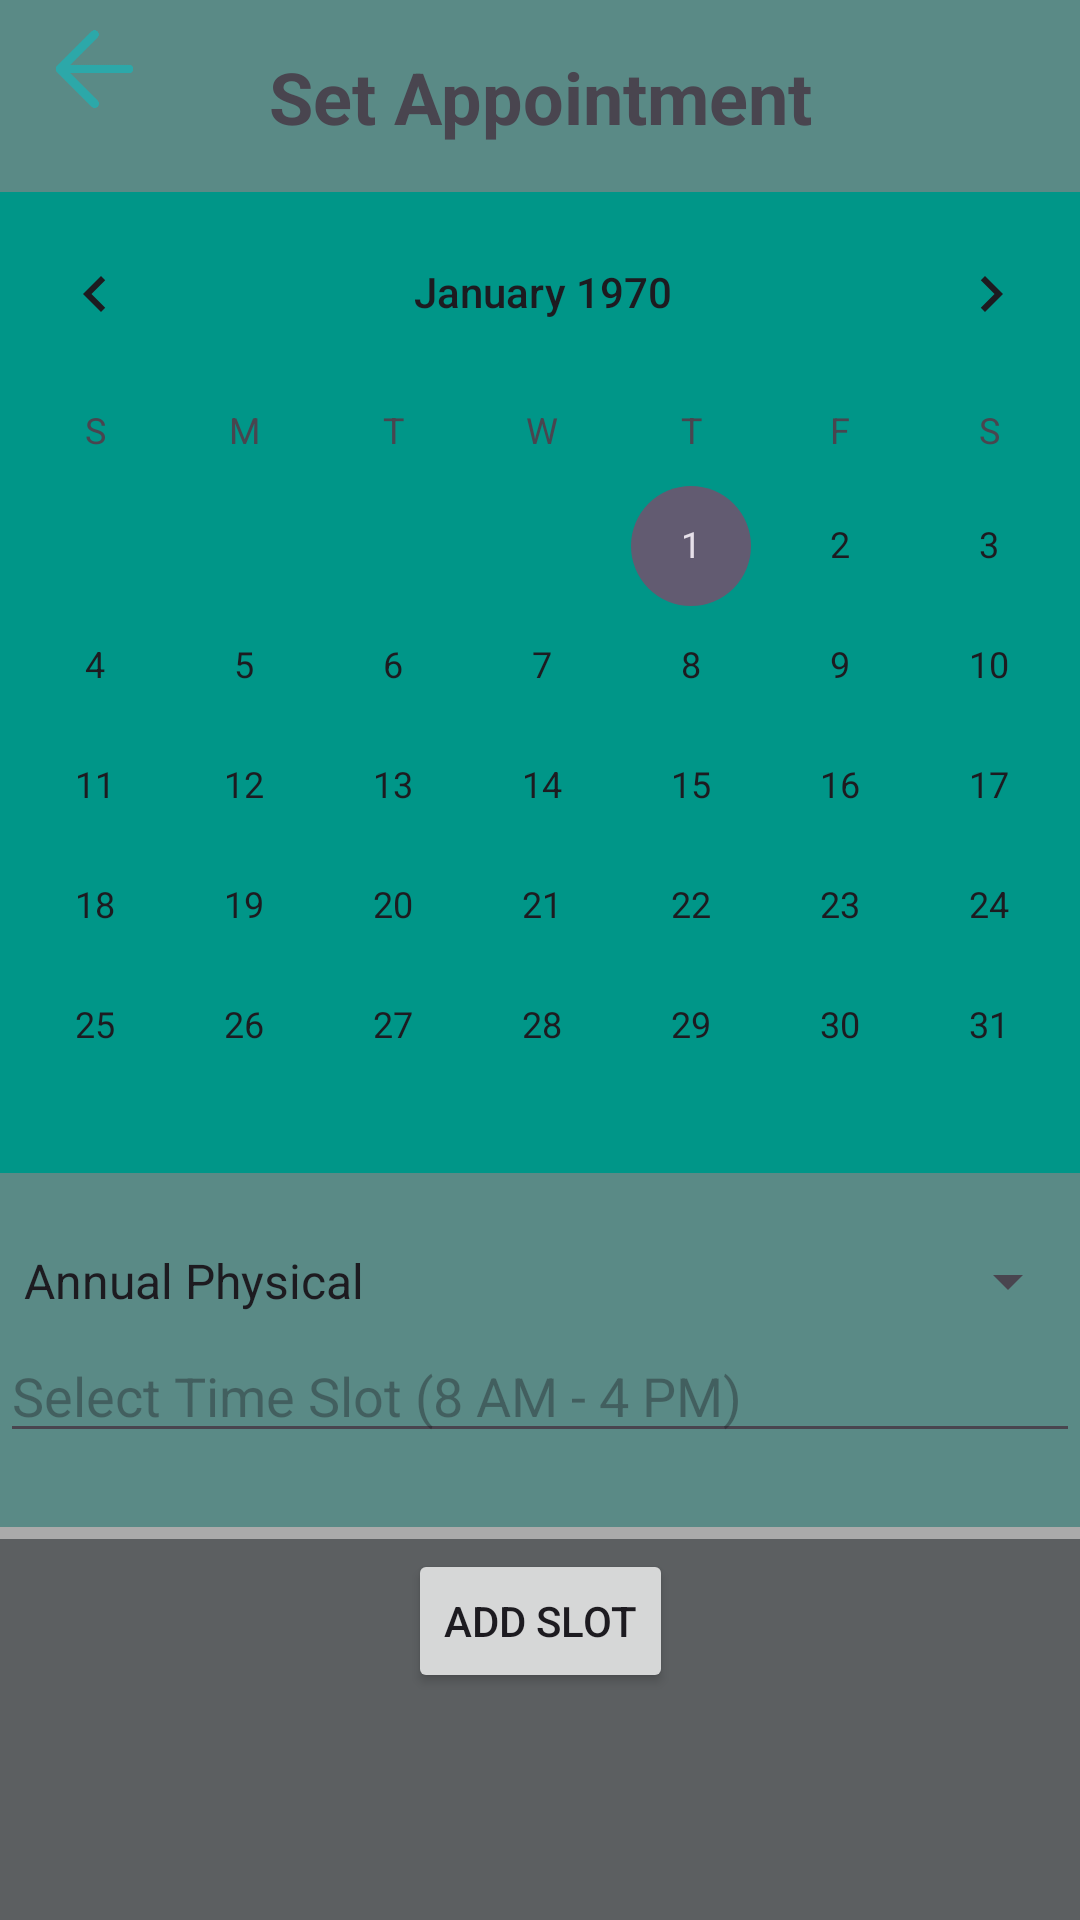

Icon bounding boxes for this 1080 × 1920 phone screenshot, format (x1, y1, x2, y2):
arrow left: (56, 30, 133, 108)
